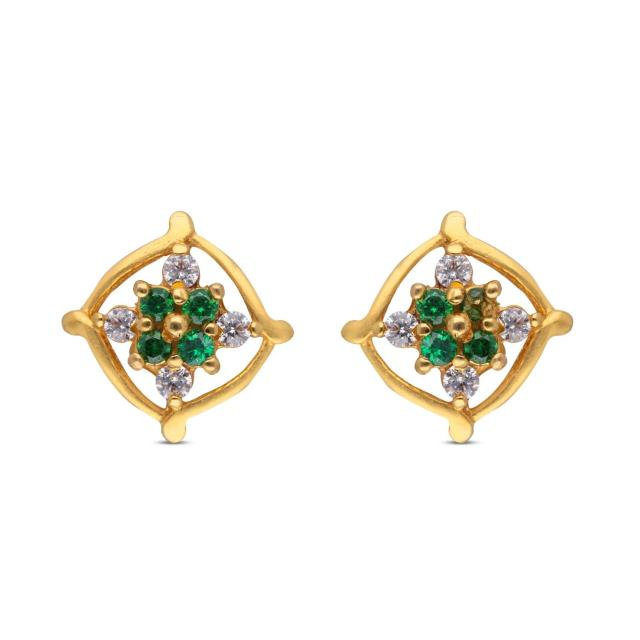missing gem: (466, 289, 496, 320)
